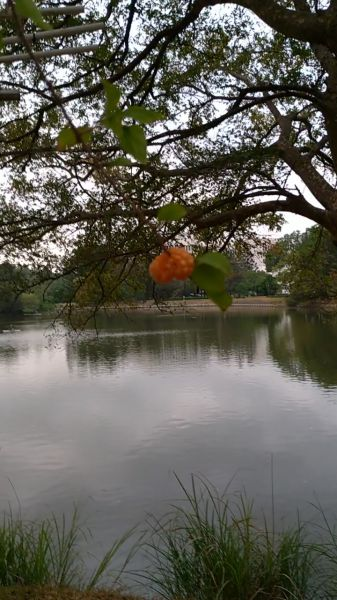eggs: (146, 237, 198, 287)
